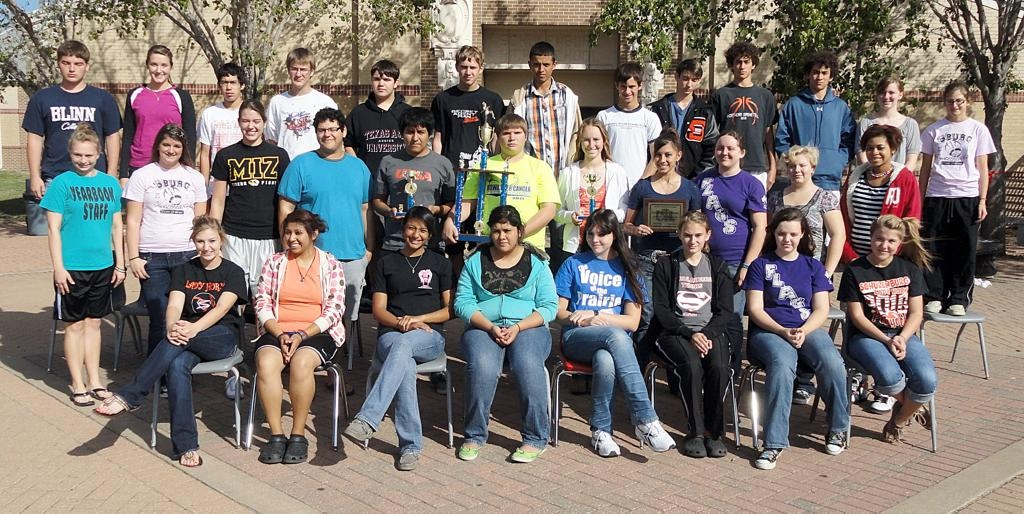human_face: (871, 227, 899, 259), (285, 222, 311, 254), (714, 134, 740, 166), (774, 220, 800, 252), (194, 230, 220, 260), (402, 122, 428, 152), (491, 221, 517, 251), (681, 221, 705, 253), (864, 136, 890, 165), (58, 54, 84, 82), (317, 119, 341, 149), (404, 218, 428, 248), (70, 144, 96, 171), (586, 228, 612, 254), (787, 156, 811, 184), (240, 110, 262, 140), (580, 127, 602, 157), (158, 137, 182, 163), (148, 54, 170, 82), (654, 145, 676, 173), (500, 126, 524, 150), (530, 55, 552, 81), (944, 90, 966, 114), (220, 76, 240, 102), (373, 70, 393, 96), (878, 82, 898, 108), (288, 61, 310, 84), (458, 59, 478, 84), (732, 54, 752, 78), (810, 65, 830, 89), (618, 76, 636, 102), (680, 69, 698, 93)
